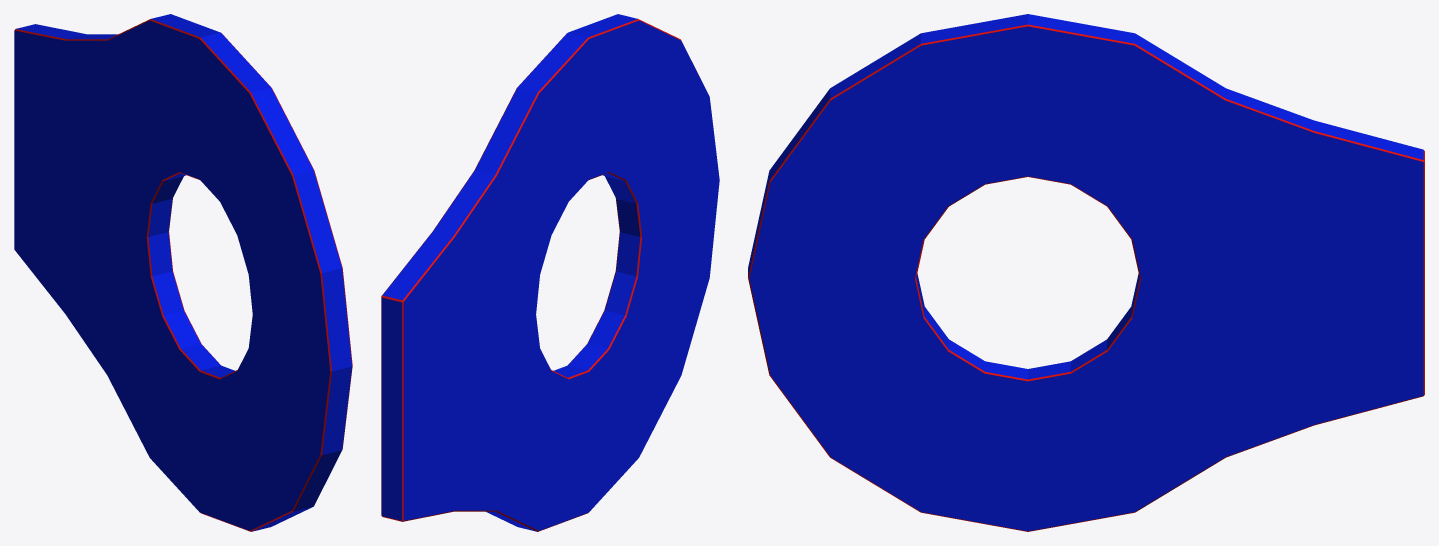
Rendered from L9_EndPlatform.fbx.
The picture shows the model from 3 angles, left to right: view 1: azimuth 30°, elevation 25°; view 2: azimuth 150°, elevation 25°; view 3: azimuth 270°, elevation 25°; orthographic projection. The views are drawn at different scales.
Parts seen in each view (by area): view 1: L9_EndPlatform; view 2: L9_EndPlatform; view 3: L9_EndPlatform.
Part boxes in pixels (bbox=[...]): L9_EndPlatform: bbox=[14, 14, 352, 531]; L9_EndPlatform: bbox=[381, 14, 719, 531]; L9_EndPlatform: bbox=[748, 14, 1424, 531].
Size of the model in its own units: 100 by 2025 by 2448.
